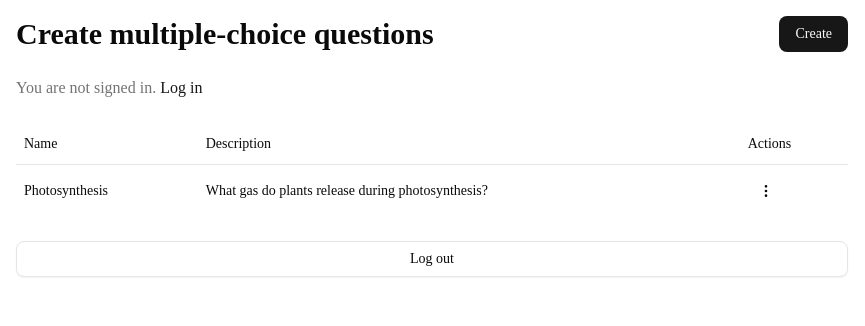
Test: McqStub › row actions menu includes Edit, Preview, and Delete
Click the button named "actions": click(766, 190) [748,172,784,208]
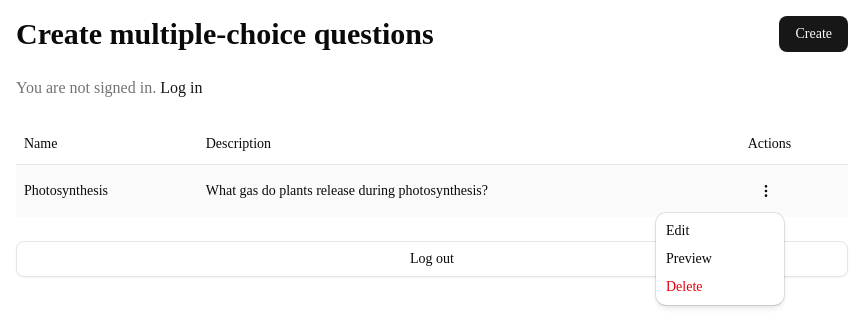
Check: the menu item "Edit" is shown, box [666,223,689,238]
Check: the menu item "Preview" is shown, box [666,251,712,266]
Check: the menu item "Delete" is shown, box [666,279,702,294]
